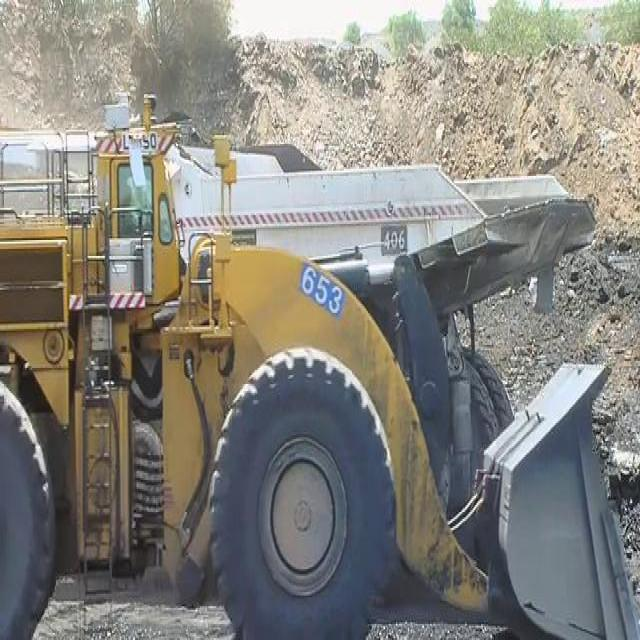Dump Truck: (168, 123, 604, 496)
Loader: (0, 89, 639, 638)
